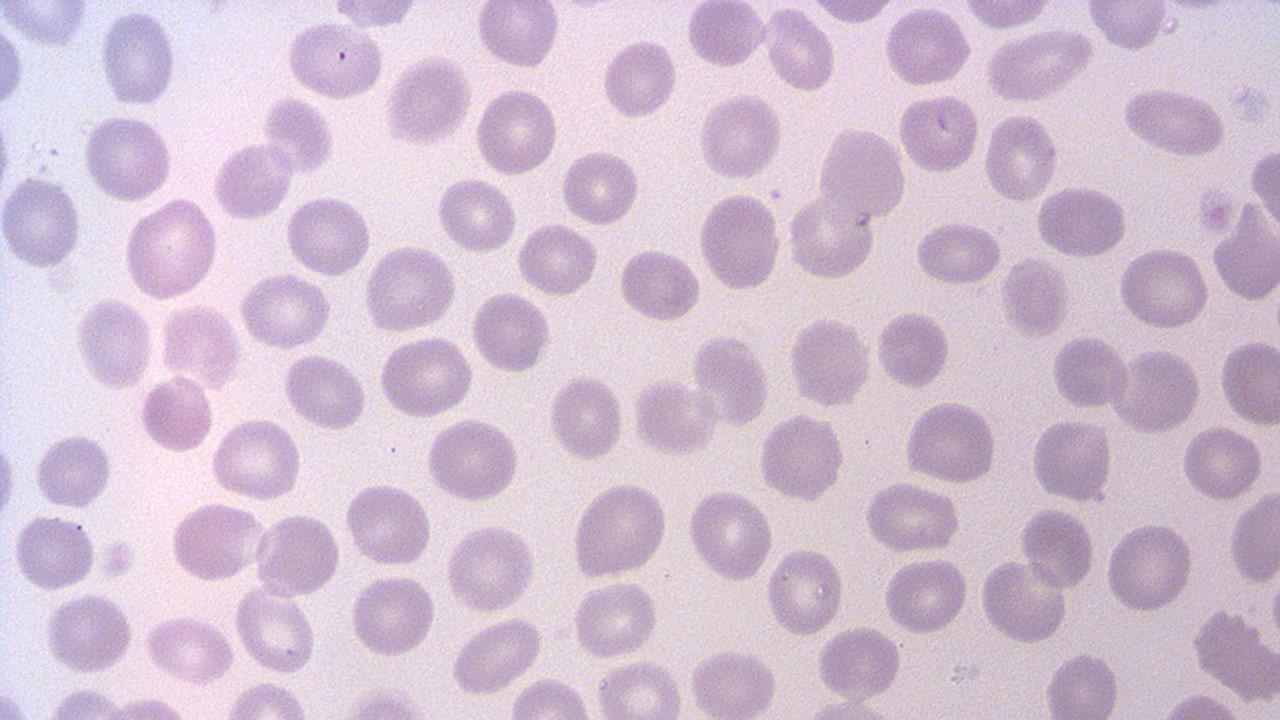Platelets: (97, 538, 137, 582)
RBC: (120, 194, 221, 302), (570, 478, 670, 582), (382, 49, 475, 150), (696, 189, 784, 294), (362, 241, 461, 334), (80, 110, 177, 203), (818, 124, 909, 223), (980, 25, 1094, 103), (686, 485, 774, 586), (374, 333, 476, 420), (444, 522, 538, 616), (1103, 521, 1197, 615), (424, 416, 522, 506), (284, 17, 386, 103), (900, 399, 1000, 485), (166, 499, 268, 583), (756, 411, 848, 504), (1117, 84, 1231, 159), (1116, 243, 1212, 332), (696, 89, 784, 185), (250, 510, 342, 601), (1111, 343, 1201, 436), (209, 415, 304, 503), (472, 83, 560, 178), (158, 299, 245, 394), (1, 171, 83, 271), (785, 194, 877, 283), (787, 314, 872, 410), (98, 7, 178, 109), (690, 331, 772, 430), (343, 479, 433, 569), (978, 557, 1070, 645), (446, 614, 544, 696), (236, 270, 336, 350), (41, 592, 136, 676), (231, 583, 318, 674), (1032, 181, 1132, 260), (284, 191, 373, 279), (628, 373, 720, 458), (881, 4, 973, 89), (764, 543, 846, 638), (73, 296, 154, 392), (348, 572, 436, 660), (1030, 415, 1114, 506), (569, 577, 660, 660), (814, 622, 906, 702), (546, 369, 624, 463), (469, 288, 552, 376), (862, 480, 962, 553), (982, 110, 1059, 204), (686, 644, 781, 720), (280, 350, 368, 432), (616, 242, 702, 325), (141, 612, 238, 685), (896, 91, 980, 175), (208, 139, 294, 220), (599, 34, 678, 122), (880, 556, 969, 634), (1018, 504, 1097, 591), (436, 174, 519, 256), (559, 145, 641, 228), (1180, 422, 1264, 503), (874, 305, 952, 392), (514, 220, 600, 298), (763, 5, 838, 94), (258, 95, 338, 178), (13, 514, 98, 592), (138, 370, 215, 456), (999, 253, 1073, 342), (32, 430, 114, 509), (912, 218, 1004, 288), (1050, 332, 1128, 412), (474, 0, 561, 71), (594, 656, 688, 720), (1042, 648, 1122, 720), (684, 0, 766, 70), (1216, 335, 1278, 427), (1211, 223, 1279, 302), (1226, 489, 1280, 583), (1084, 0, 1168, 54), (1, 1, 92, 48), (959, 1, 1059, 32), (1250, 142, 1280, 238), (0, 12, 27, 116), (804, 0, 899, 26), (0, 424, 19, 530)
